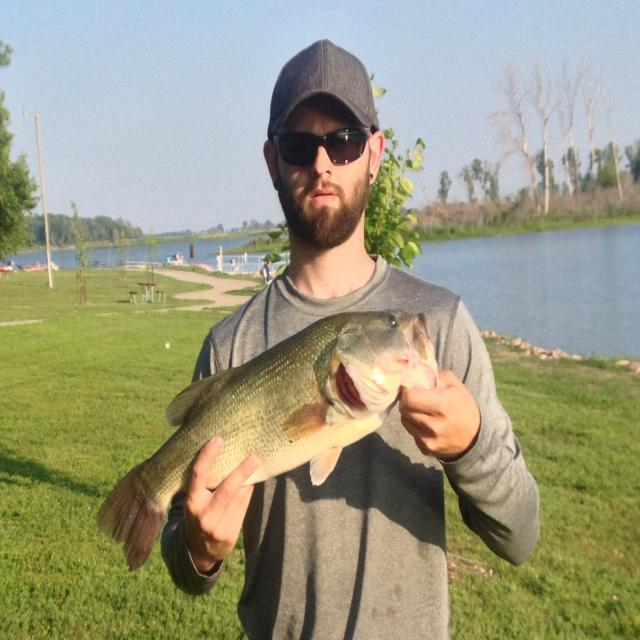Bass - Largemouth: (97, 310, 438, 570)
